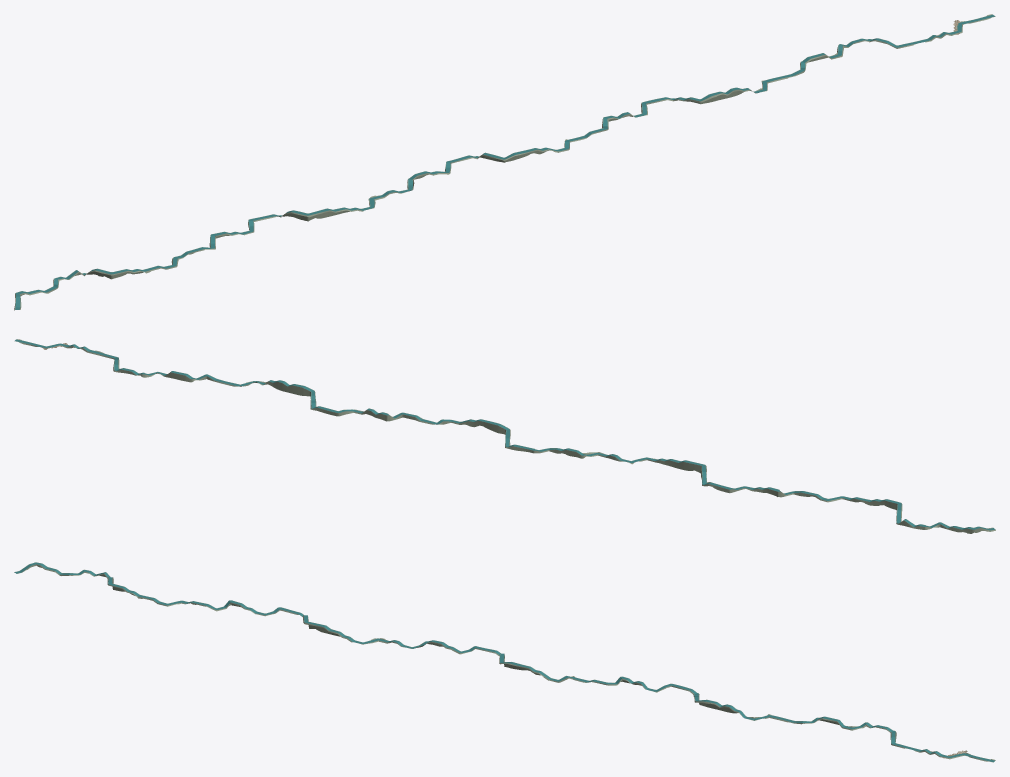
File: river.glb
The picture shows the model from 3 angles, top to bottom: view 1: azimuth 30°, elevation 25°; view 2: azimuth 150°, elevation 25°; view 3: azimuth 330°, elevation 25°; orthographic projection. The views are drawn at different scales.
Size of the model in its own units: 356 by 2.94 by 39.29.
